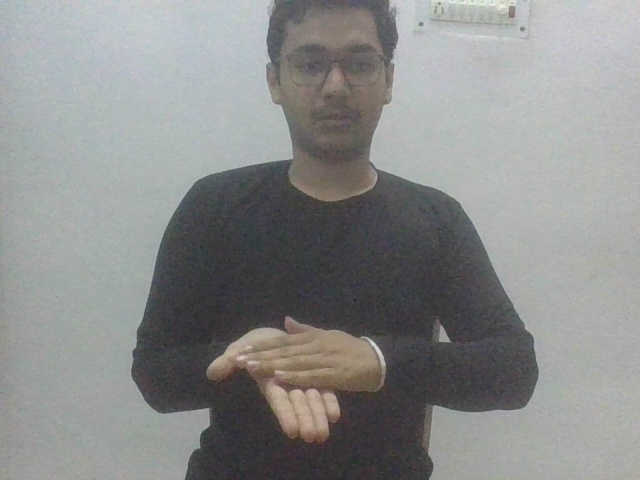H: (204, 313, 398, 446)
